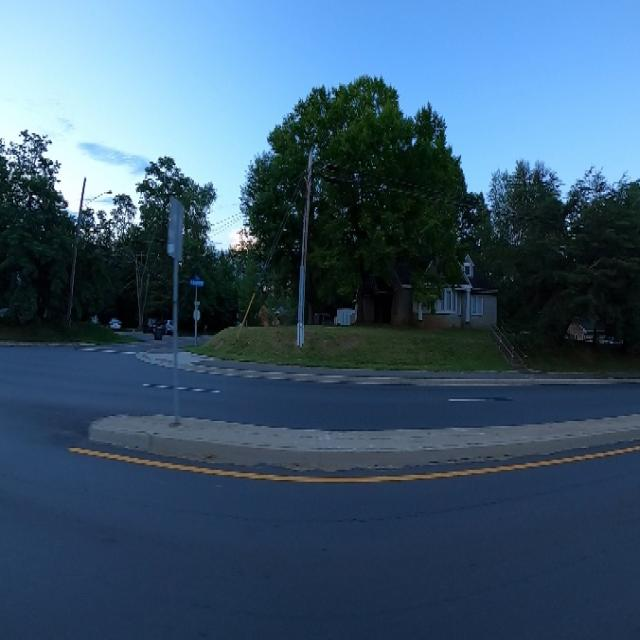cars: (106, 308, 126, 339), (162, 312, 178, 342), (145, 316, 158, 334)
